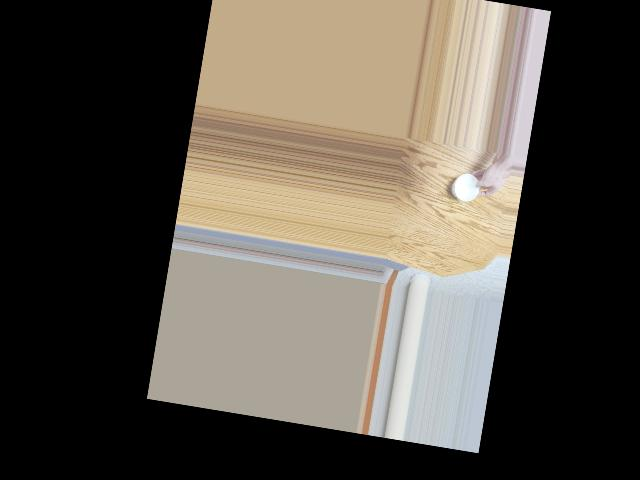cotage: (450, 171, 482, 208)
